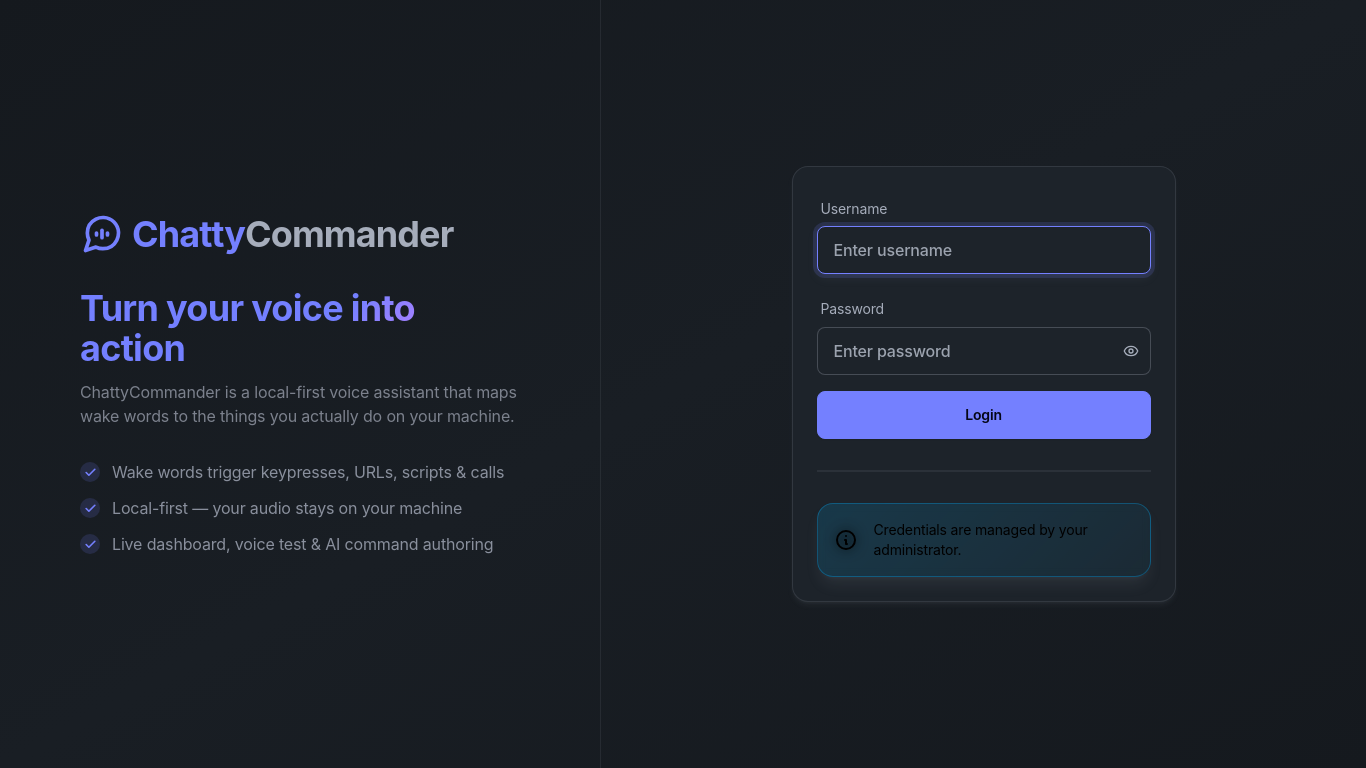
Test: LoginPage › failed login announces the error and clears the password
Type "alice" into the field labelled "Username" at point(984, 250), box x1=816 y1=226 x2=1150 y2=274
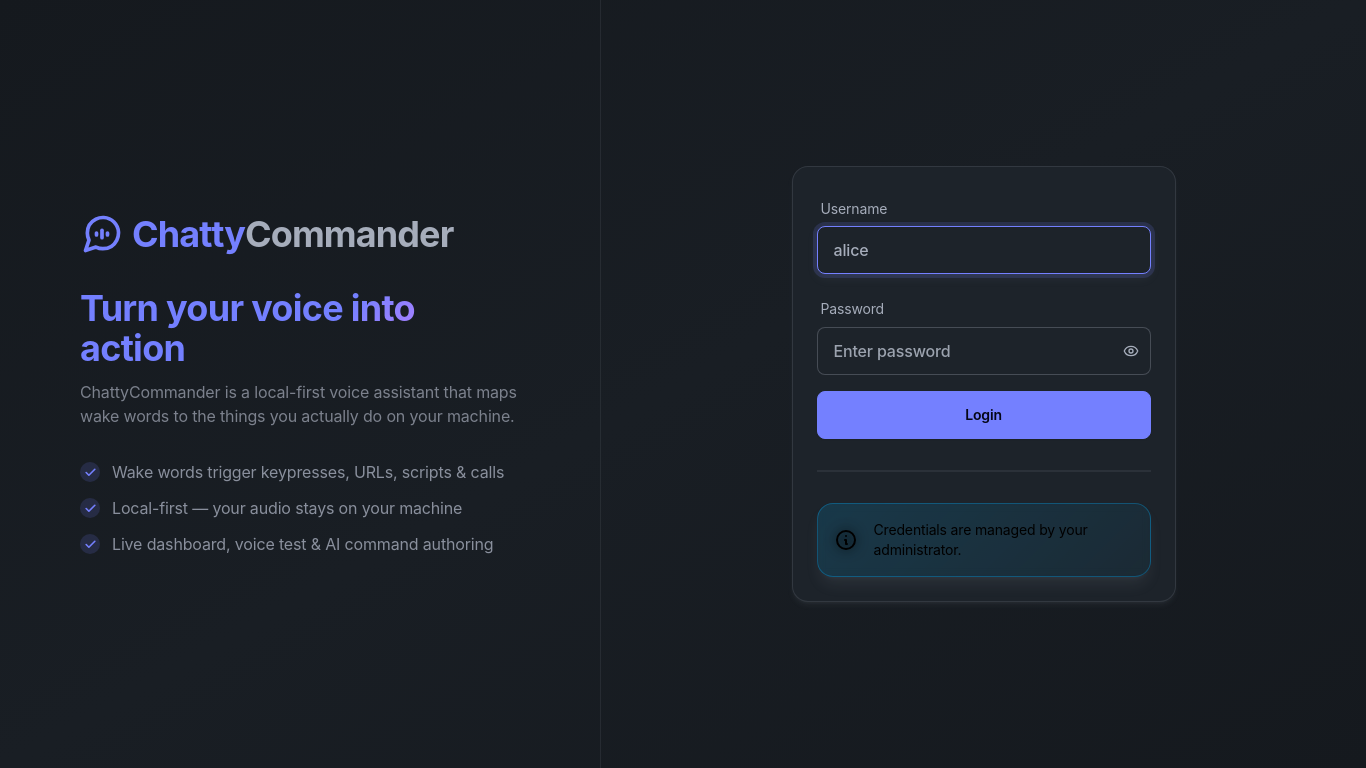
Type "secret" into the password field labelled "Password" at point(984, 351), box x1=816 y1=327 x2=1150 y2=375
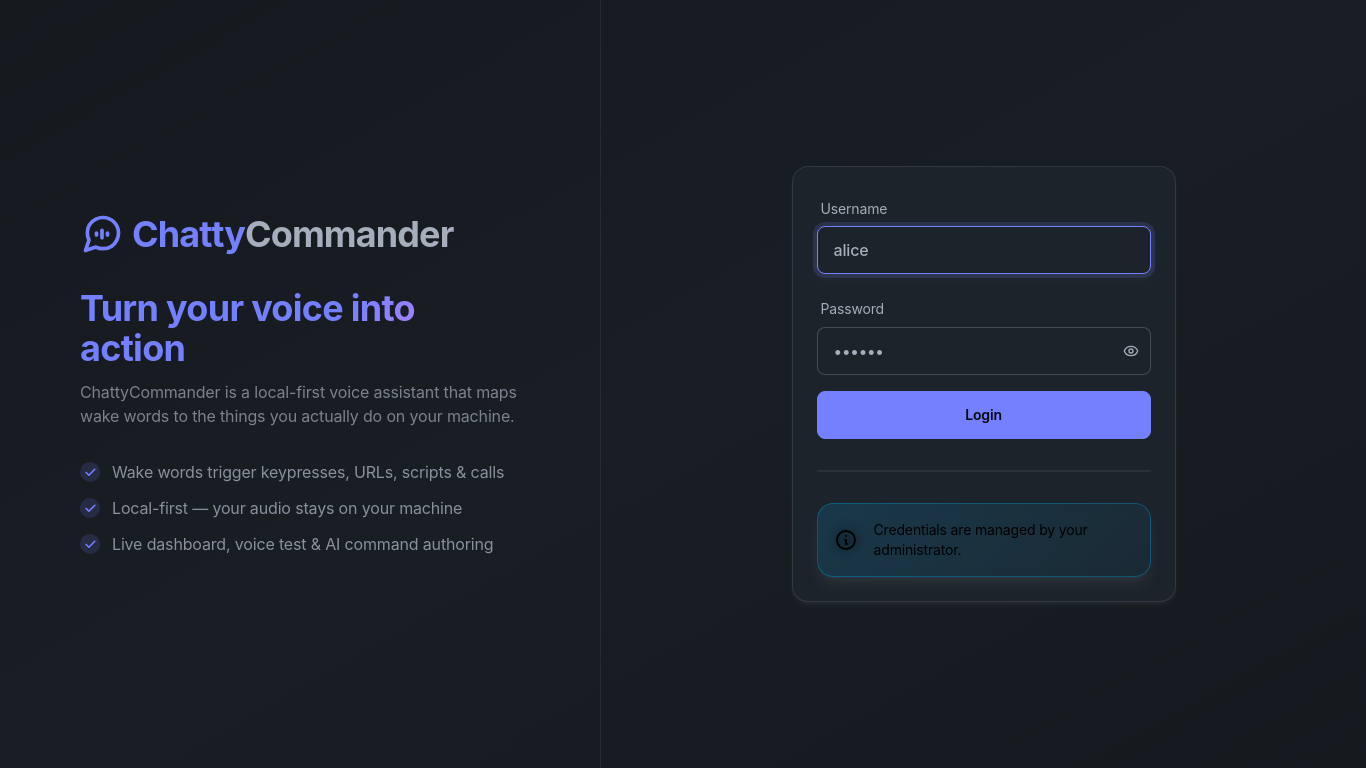
Click the button "Login" at point(984, 415), box x1=816 y1=391 x2=1150 y2=439
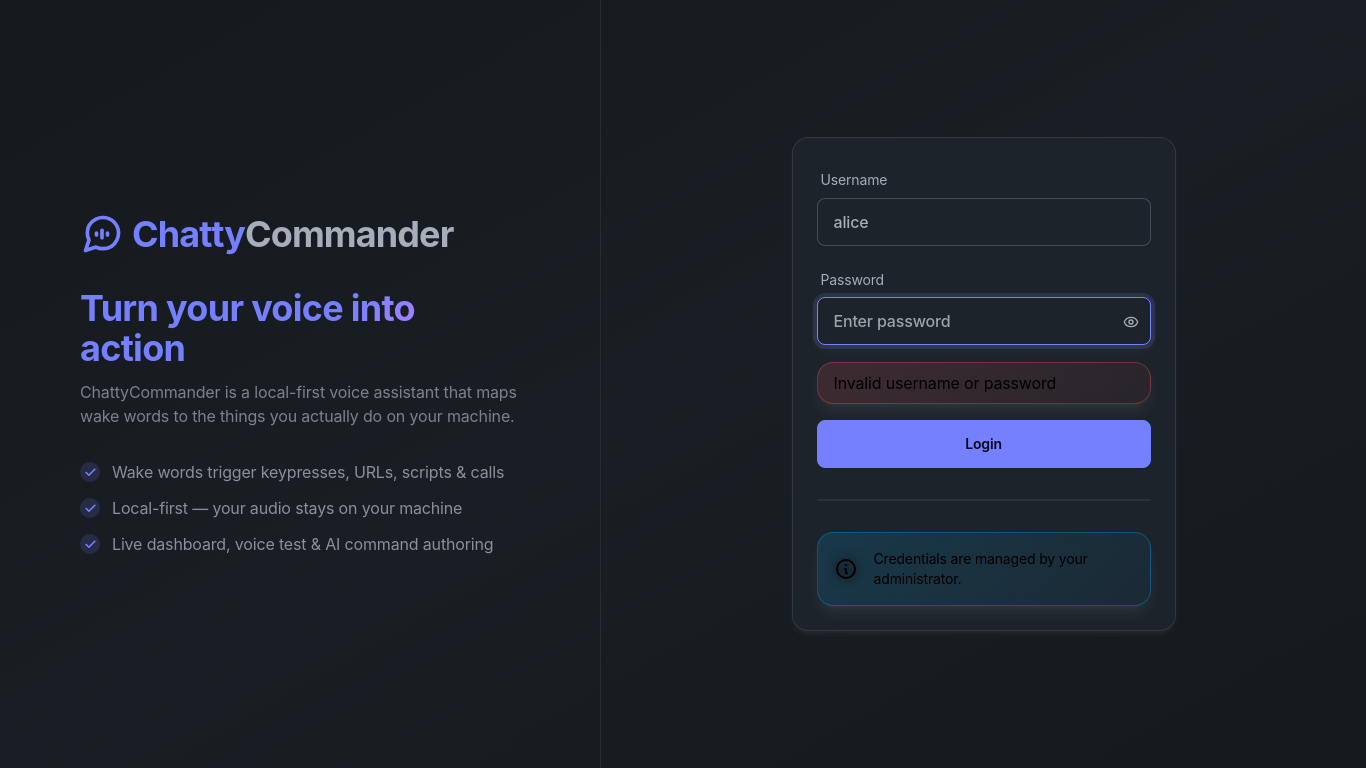
Expected: the message reads "Invalid username or password", x1=834 y1=373 x2=1056 y2=393
Expected: the password field labelled "Password" is empty, x1=816 y1=297 x2=1150 y2=345
